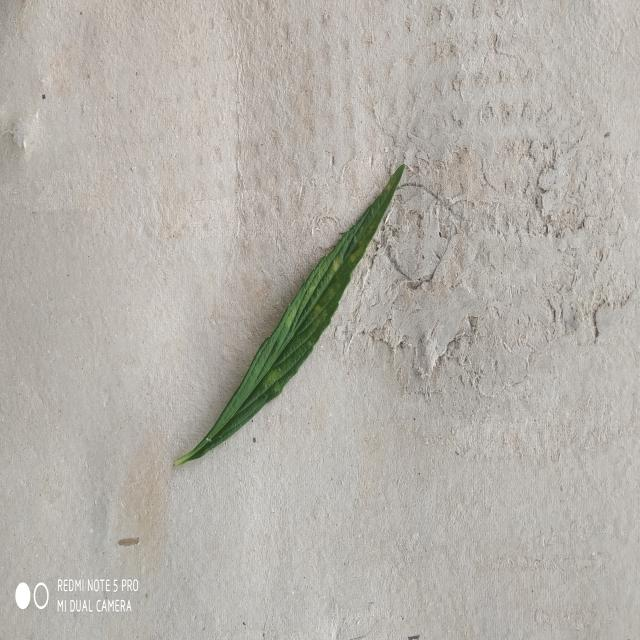defectedthambe: (326, 196, 382, 300)
thambe: (174, 164, 405, 467)
